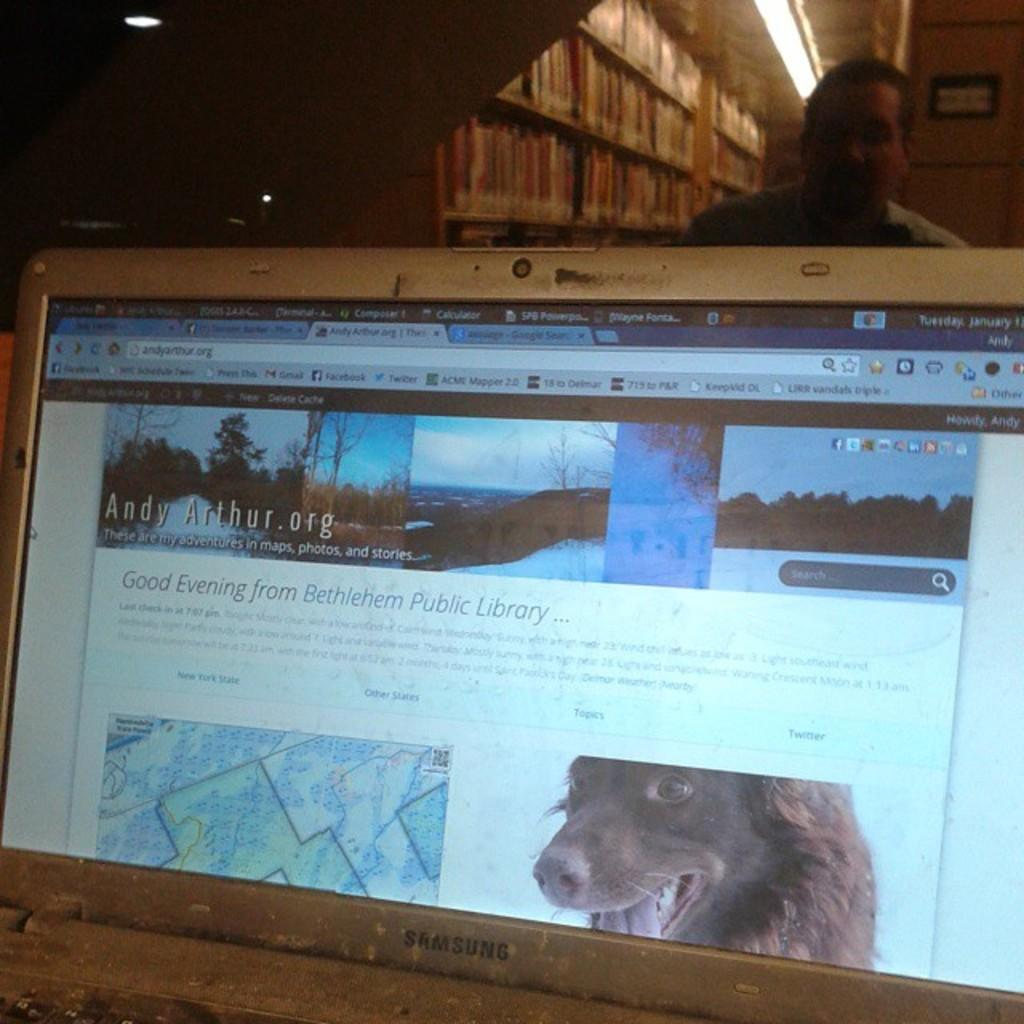Laptop: (0, 243, 1023, 1022)
